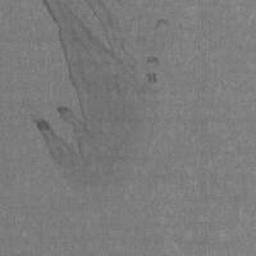Water spot: (37, 0, 164, 165)
